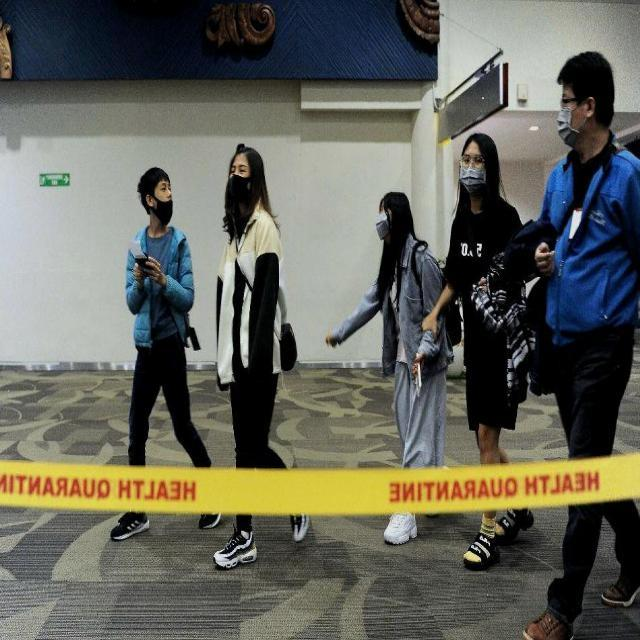hairnet: (147, 190, 174, 229)
